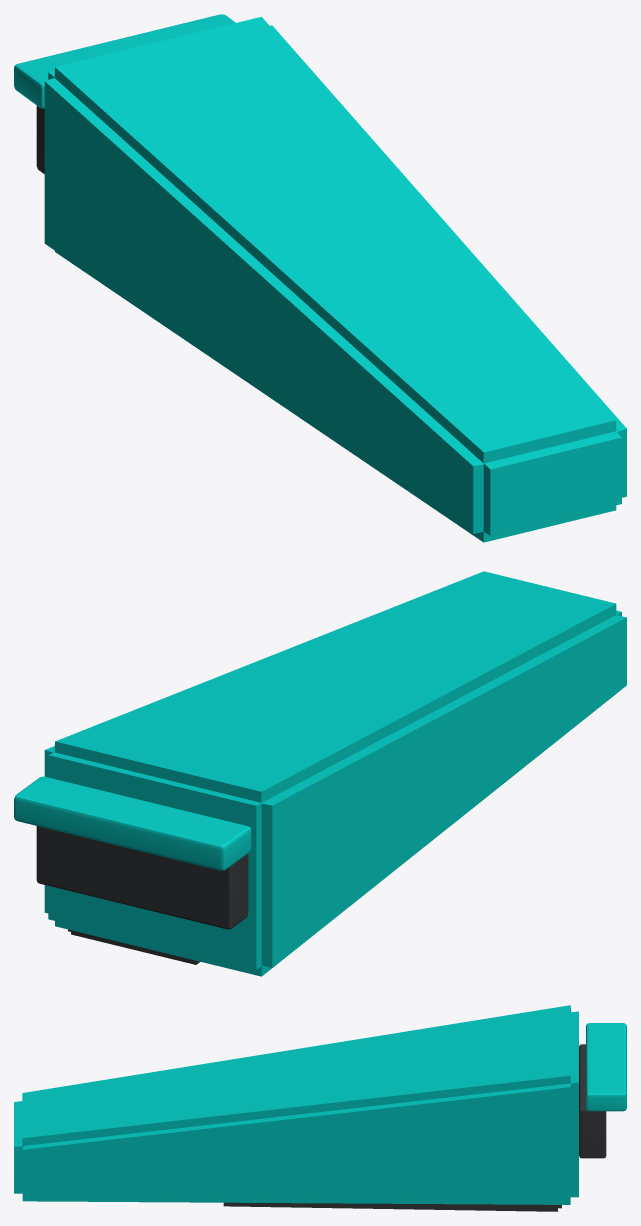
File: f1_sidepod_r_downwash.glb
3 renders of one model, top to bottom at view 1: azimuth 30°, elevation 25°; view 2: azimuth 150°, elevation 25°; view 3: azimuth 270°, elevation 25°, orthographic. The views are drawn at different scales.
Parts seen in each view (by area): view 1: F1_Sidepod_R_Downwash; view 2: F1_Sidepod_R_Downwash; view 3: F1_Sidepod_R_Downwash.
Part boxes in pixels (box(x1,y1,x2,y2)): F1_Sidepod_R_Downwash: box(14, 14, 626, 542); F1_Sidepod_R_Downwash: box(14, 571, 626, 976); F1_Sidepod_R_Downwash: box(14, 1005, 626, 1211).
Bounding box in the file's own units: 0.5373 × 0.4561 × 1.79.
